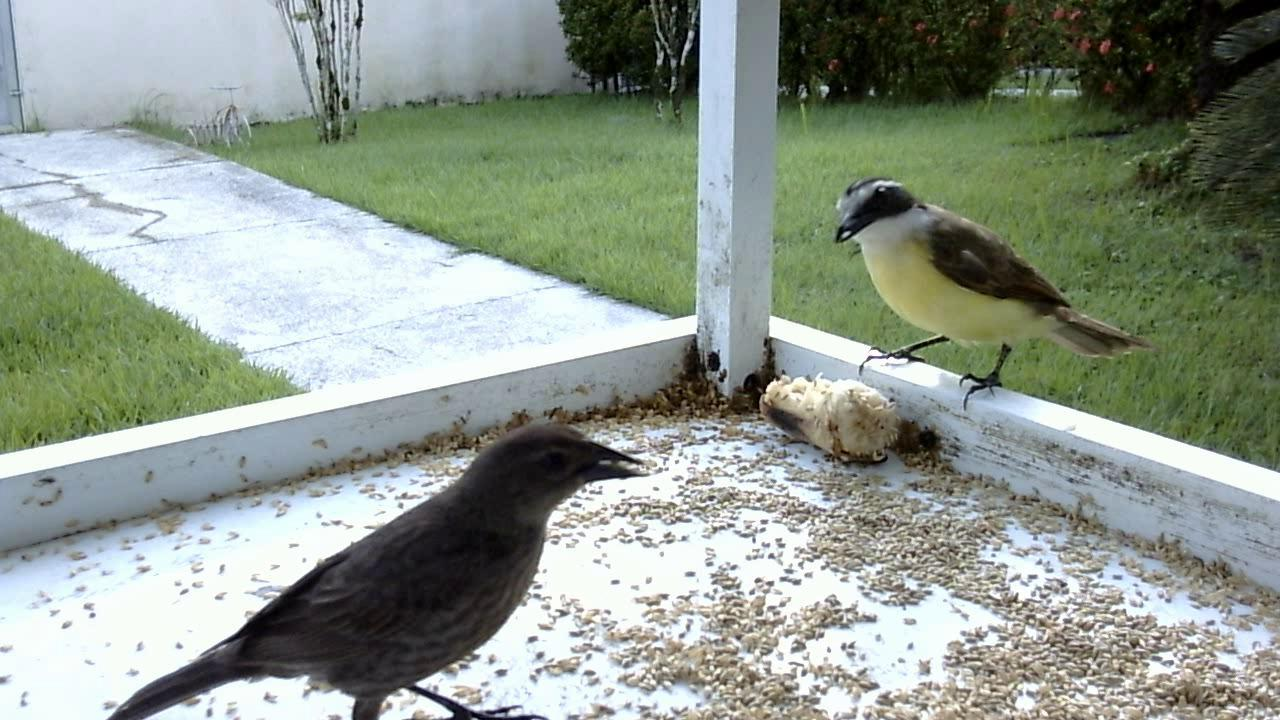bem_te_vi: (824, 165, 1155, 426)
chupim: (94, 423, 651, 718)
